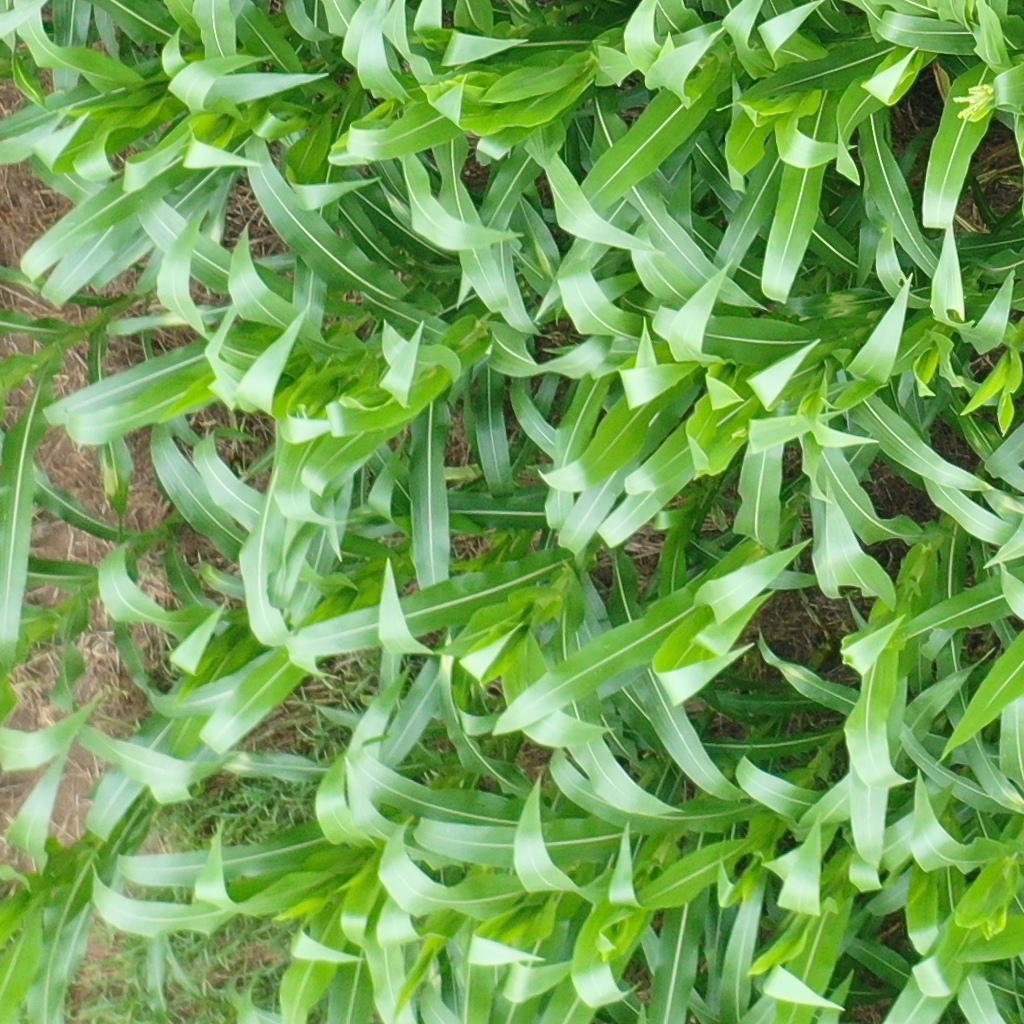Tassel: (952, 80, 997, 125), (975, 905, 1006, 943)
